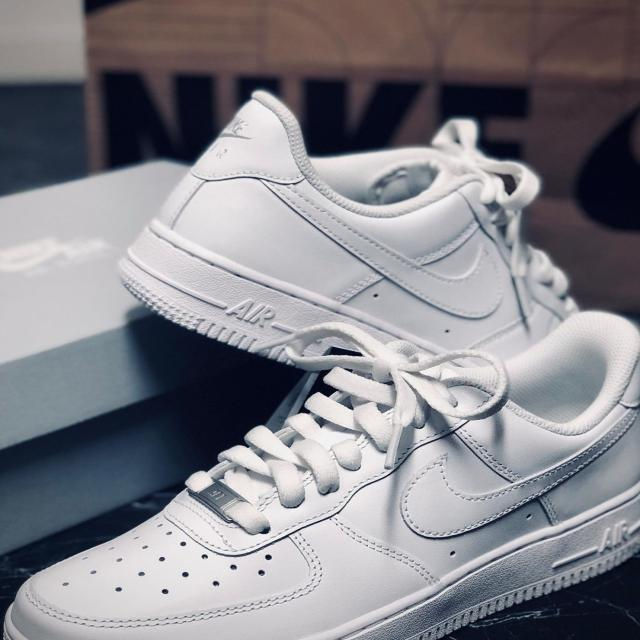nike original air force: (6, 327, 640, 640), (126, 94, 584, 440)
